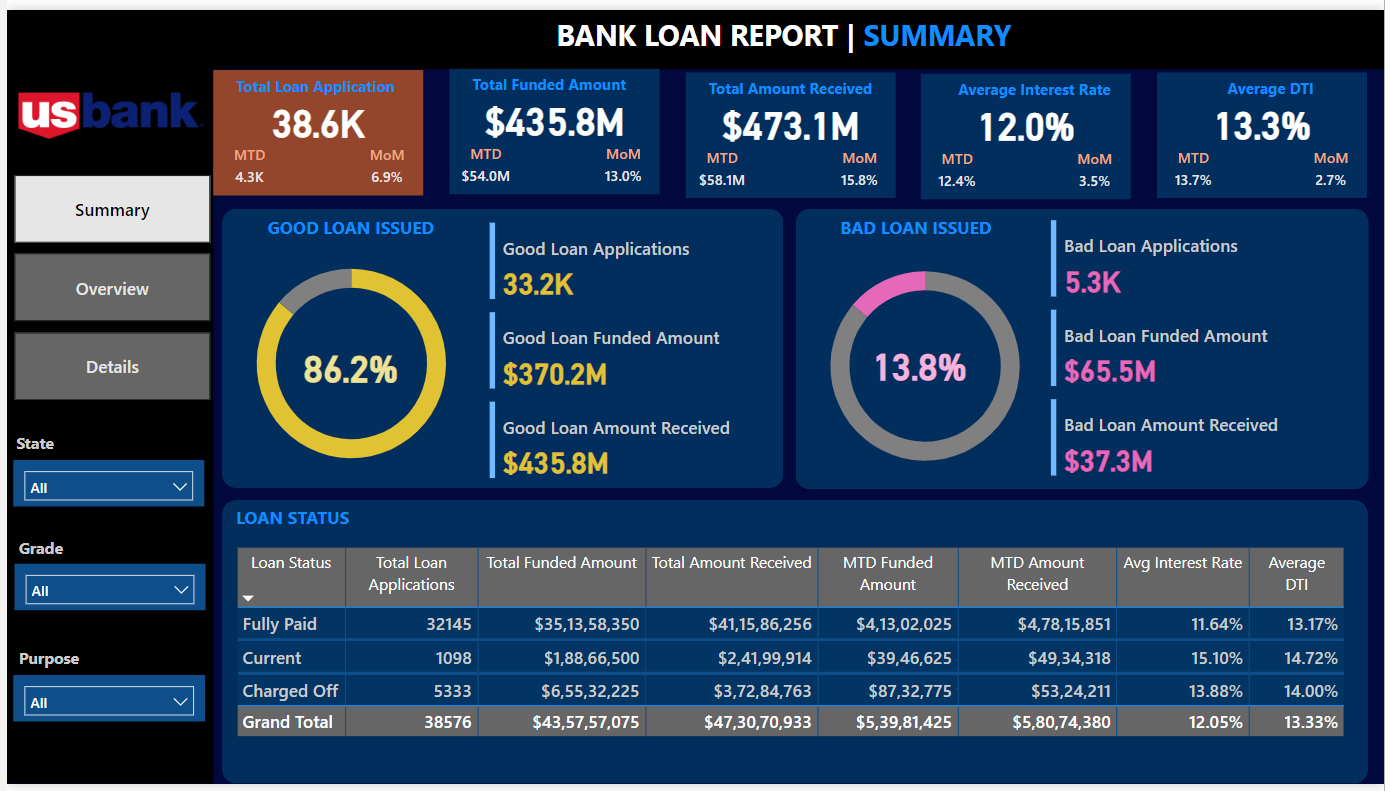

Layout of this report page (visuals, bound fields, positions):
{"tool":"powerbi","page":{"name":"Summary","canvas":[1280,720],"ordinal":0},"visuals":[{"type":"shape","box":[0,55.1,192,664.5],"z":0},{"type":"shape","box":[411.6,55.1,195.6,116.7],"z":0,"group":"g1"},{"type":"shape","box":[192.2,55.6,195.6,116.7],"z":0,"group":"g3"},{"type":"shape","box":[630.4,57.8,195.6,116.7],"z":0,"group":"g2"},{"type":"shape","box":[1069.4,57.8,195.6,116.7],"z":0,"group":"g8"},{"type":"shape","box":[849.2,59.2,195.6,116.7],"z":0,"group":"g7"},{"type":"card","fields":{"Values":["bank_loan_data.Total Funded Amount"]},"box":[411.6,70.7,195.6,63.3],"z":1000,"group":"g1"},{"type":"card","fields":{"Values":["bank_loan_data.Total Loan Applications"]},"box":[192.2,71.2,195.6,63.3],"z":1000,"group":"g3"},{"type":"card","fields":{"Values":["bank_loan_data.Total Amount Received"]},"box":[630.4,73.4,195.6,63.3],"z":1000,"group":"g2"},{"type":"card","fields":{"Values":["bank_loan_data.Average DTI"]},"box":[1069.4,73.4,195.6,63.3],"z":1000,"group":"g8"},{"type":"card","fields":{"Values":["bank_loan_data.Avg Interest Rate"]},"box":[849.2,74.8,195.6,63.3],"z":1000,"group":"g7"},{"type":"shape","box":[200.4,456,1065.3,263.6],"z":1000},{"type":"textbox","box":[428.3,55.1,178.9,31.1],"z":2000,"group":"g1"},{"type":"textbox","box":[208.9,55.6,178.9,31.1],"z":2000,"group":"g3"},{"type":"textbox","box":[647.1,57.8,178.9,31.1],"z":2000,"group":"g2"},{"type":"textbox","box":[1086.1,57.8,178.9,31.1],"z":2000,"group":"g8"},{"type":"textbox","box":[865.9,59.2,178.9,31.1],"z":2000,"group":"g7"},{"type":"shape","box":[733.1,184.3,532.7,261],"z":2000},{"type":"card","title":"MTD","fields":{"Values":["bank_loan_data.MTD Funded Amount"]},"box":[411.6,125.1,67.8,46.7],"z":3000,"group":"g1"},{"type":"card","title":"MTD","fields":{"Values":["bank_loan_data.MTD Loan Applications"]},"box":[192.2,125.6,67.8,46.7],"z":3000,"group":"g3"},{"type":"card","title":"MTD","fields":{"Values":["bank_loan_data.MTD Amount Received"]},"box":[630.4,127.8,67.8,46.7],"z":3000,"group":"g2"},{"type":"card","title":"MTD","fields":{"Values":["bank_loan_data.MTD Avg DTI"]},"box":[1069.4,127.8,67.8,46.7],"z":3000,"group":"g8"},{"type":"card","title":"MTD","fields":{"Values":["bank_loan_data.MTD Avg Interest Rate"]},"box":[849.2,129.2,67.8,46.7],"z":3000,"group":"g7"},{"type":"shape","box":[199.9,184.3,521.9,259.6],"z":3000},{"type":"card","title":"MoM","fields":{"Values":["bank_loan_data.MoM Funded Amount"]},"box":[539.4,125.1,67.8,46.7],"z":4000,"group":"g1"},{"type":"card","title":"MoM","fields":{"Values":["bank_loan_data.MoM Loan Application"]},"box":[320,125.6,67.8,46.7],"z":4000,"group":"g3"},{"type":"card","title":"MoM","fields":{"Values":["bank_loan_data.MoM Amount Received"]},"box":[758.2,127.8,67.8,46.7],"z":4000,"group":"g2"},{"type":"card","title":"MoM","fields":{"Values":["bank_loan_data.MoM Average DTI"]},"box":[1197.2,127.8,67.8,46.7],"z":4000,"group":"g8"},{"type":"card","title":"MoM","fields":{"Values":["bank_loan_data.MoM Avg Interest Rate"]},"box":[977,129.2,67.8,46.7],"z":4000,"group":"g7"},{"type":"textbox","box":[4,387.4,178.9,30.9],"z":4000},{"type":"group","id":"g1","title":"Group 3","box":[411.6,55.1,195,117],"z":4001,"group":"g5"},{"type":"group","id":"g2","title":"Group 4","box":[630.4,57.8,195.6,116.7],"z":4002,"group":"g6"},{"type":"group","id":"g3","title":"Group 2","box":[192.2,55.6,195.6,116.7],"z":4005,"group":"g4"},{"type":"card","fields":{"Values":["bank_loan_data.Bad Loan Percentage"]},"box":[750.6,297.3,195,63.2],"z":5000},{"type":"shape","box":[0,0,1280.5,55.1],"z":6000},{"type":"textbox","box":[208.5,456,178.9,39],"z":7000},{"type":"textbox","box":[745.2,185.6,200.4,41.7],"z":8000},{"type":"card","fields":{"Values":["bank_loan_data.Good Loan Percentage"]},"box":[221.9,300,195,63.2],"z":9000},{"type":"textbox","box":[505.8,0,452,49.8],"z":10000},{"type":"group","id":"g4","title":"Group 1","box":[192.2,55.6,195.6,116.7],"z":11000},{"type":"group","id":"g5","title":"Group 2","box":[411.6,55.1,195,117],"z":12000},{"type":"group","id":"g6","title":"Group 3","box":[630.4,57.8,195,117],"z":13000},{"type":"group","id":"g7","title":"Group 4","box":[849.2,59.2,196.4,117],"z":14000},{"type":"group","id":"g8","title":"Group 4","box":[1069.4,57.8,196.4,117],"z":15000},{"type":"donutChart","fields":{"Category":["bank_loan_data.Good Vs Bad Loan"],"Y":["bank_loan_data.Total Loan Applications"]},"box":[195,213.9,250.2,230],"z":16000},{"type":"cardVisual","fields":{"Data":["bank_loan_data.Good Loan Applications","bank_loan_data.Good Loan Funded Amount","bank_loan_data.Good Loan Amount Received"]},"box":[443.4,193.3,278.4,248.8],"z":17000},{"type":"donutChart","fields":{"Category":["bank_loan_data.Good Vs Bad Loan"],"Y":["bank_loan_data.Total Loan Applications"]},"box":[729.1,216.6,250.2,230],"z":18000},{"type":"textbox","box":[219.3,185.6,200.4,41.7],"z":19000},{"type":"cardVisual","fields":{"Data":["bank_loan_data.Bad Loan Applications","bank_loan_data.Bad Loan Funded Amount","bank_loan_data.Bad Loan Amount Received"]},"box":[965.8,191,278.4,248.8],"z":20000},{"type":"tableEx","fields":{"Values":["bank_loan_data.loan_status","bank_loan_data.Total Loan Applications","bank_loan_data.Total Funded Amount","bank_loan_data.Total Amount Received","bank_loan_data.MTD Funded Amount","bank_loan_data.MTD Amount Received","bank_loan_data.Avg Interest Rate","bank_loan_data.Average DTI"]},"box":[208.5,495,1047.8,213.9],"z":21000},{"type":"slicer","fields":{"Values":["bank_loan_data.address_state"]},"box":[5.4,418.3,177.6,43],"z":22000},{"type":"slicer","fields":{"Values":["bank_loan_data.grade"]},"box":[6.7,515.2,177.6,43],"z":23000},{"type":"textbox","box":[5.4,484.2,178.9,30.9],"z":24000},{"type":"slicer","fields":{"Values":["bank_loan_data.purpose"]},"box":[6.2,618.5,178.2,43.5],"z":25000},{"type":"textbox","box":[6.2,586.4,179.2,31.1],"z":26000},{"type":"image","box":[1.4,1.4,191.4,191.4],"z":26001},{"type":"pageNavigator","box":[7.1,152.9,182.9,210],"z":26002}]}

Visuals, with their boxes in screenshot pixels (x1, y1, x2, y2), scaled from the page's 1280x720 canvas onto the 1391x791 screenshot:
shape: <region>0, 61, 209, 790</region>
shape: <region>447, 61, 660, 189</region>
shape: <region>209, 61, 421, 189</region>
shape: <region>685, 63, 898, 192</region>
shape: <region>1162, 63, 1375, 192</region>
shape: <region>923, 65, 1135, 193</region>
card - bank_loan_data.Total Funded Amount: <region>447, 78, 660, 147</region>
card - bank_loan_data.Total Loan Applications: <region>209, 78, 421, 148</region>
card - bank_loan_data.Total Amount Received: <region>685, 81, 898, 150</region>
card - bank_loan_data.Average DTI: <region>1162, 81, 1375, 150</region>
card - bank_loan_data.Avg Interest Rate: <region>923, 82, 1135, 152</region>
shape: <region>218, 501, 1375, 790</region>
textbox: <region>465, 61, 660, 95</region>
textbox: <region>227, 61, 421, 95</region>
textbox: <region>703, 63, 898, 98</region>
textbox: <region>1180, 63, 1375, 98</region>
textbox: <region>941, 65, 1135, 99</region>
shape: <region>797, 202, 1376, 489</region>
"MTD" card: <region>447, 137, 521, 189</region>
"MTD" card: <region>209, 138, 283, 189</region>
"MTD" card: <region>685, 140, 759, 192</region>
"MTD" card: <region>1162, 140, 1236, 192</region>
"MTD" card: <region>923, 142, 997, 193</region>
shape: <region>217, 202, 784, 488</region>
"MoM" card: <region>586, 137, 660, 189</region>
"MoM" card: <region>348, 138, 421, 189</region>
"MoM" card: <region>824, 140, 898, 192</region>
"MoM" card: <region>1301, 140, 1375, 192</region>
"MoM" card: <region>1062, 142, 1135, 193</region>
textbox: <region>4, 426, 199, 460</region>
"Group 3" group: <region>447, 61, 659, 189</region>
"Group 4" group: <region>685, 63, 898, 192</region>
"Group 2" group: <region>209, 61, 421, 189</region>
card - bank_loan_data.Bad Loan Percentage: <region>816, 327, 1028, 396</region>
shape: <region>0, 0, 1390, 61</region>
textbox: <region>227, 501, 421, 544</region>
textbox: <region>810, 204, 1028, 250</region>
card - bank_loan_data.Good Loan Percentage: <region>241, 330, 453, 399</region>
textbox: <region>550, 0, 1041, 55</region>
"Group 1" group: <region>209, 61, 421, 189</region>
"Group 2" group: <region>447, 61, 659, 189</region>
"Group 3" group: <region>685, 63, 897, 192</region>
"Group 4" group: <region>923, 65, 1136, 194</region>
"Group 4" group: <region>1162, 63, 1376, 192</region>
donutChart - bank_loan_data.Good Vs Bad Loan x bank_loan_data.Total Loan Applications: <region>212, 235, 484, 488</region>
cardVisual - bank_loan_data.Good Loan Applications x bank_loan_data.Good Loan Funded Amount: <region>482, 212, 784, 486</region>
donutChart - bank_loan_data.Good Vs Bad Loan x bank_loan_data.Total Loan Applications: <region>792, 238, 1064, 491</region>
textbox: <region>238, 204, 456, 250</region>
cardVisual - bank_loan_data.Bad Loan Applications x bank_loan_data.Bad Loan Funded Amount: <region>1050, 210, 1352, 483</region>
tableEx - bank_loan_data.loan_status x bank_loan_data.Total Loan Applications: <region>227, 544, 1365, 779</region>
slicer - bank_loan_data.address_state: <region>6, 460, 199, 507</region>
slicer - bank_loan_data.grade: <region>7, 566, 200, 613</region>
textbox: <region>6, 532, 200, 566</region>
slicer - bank_loan_data.purpose: <region>7, 679, 200, 727</region>
textbox: <region>7, 644, 201, 678</region>
image: <region>2, 2, 210, 212</region>
pageNavigator: <region>8, 168, 206, 399</region>
